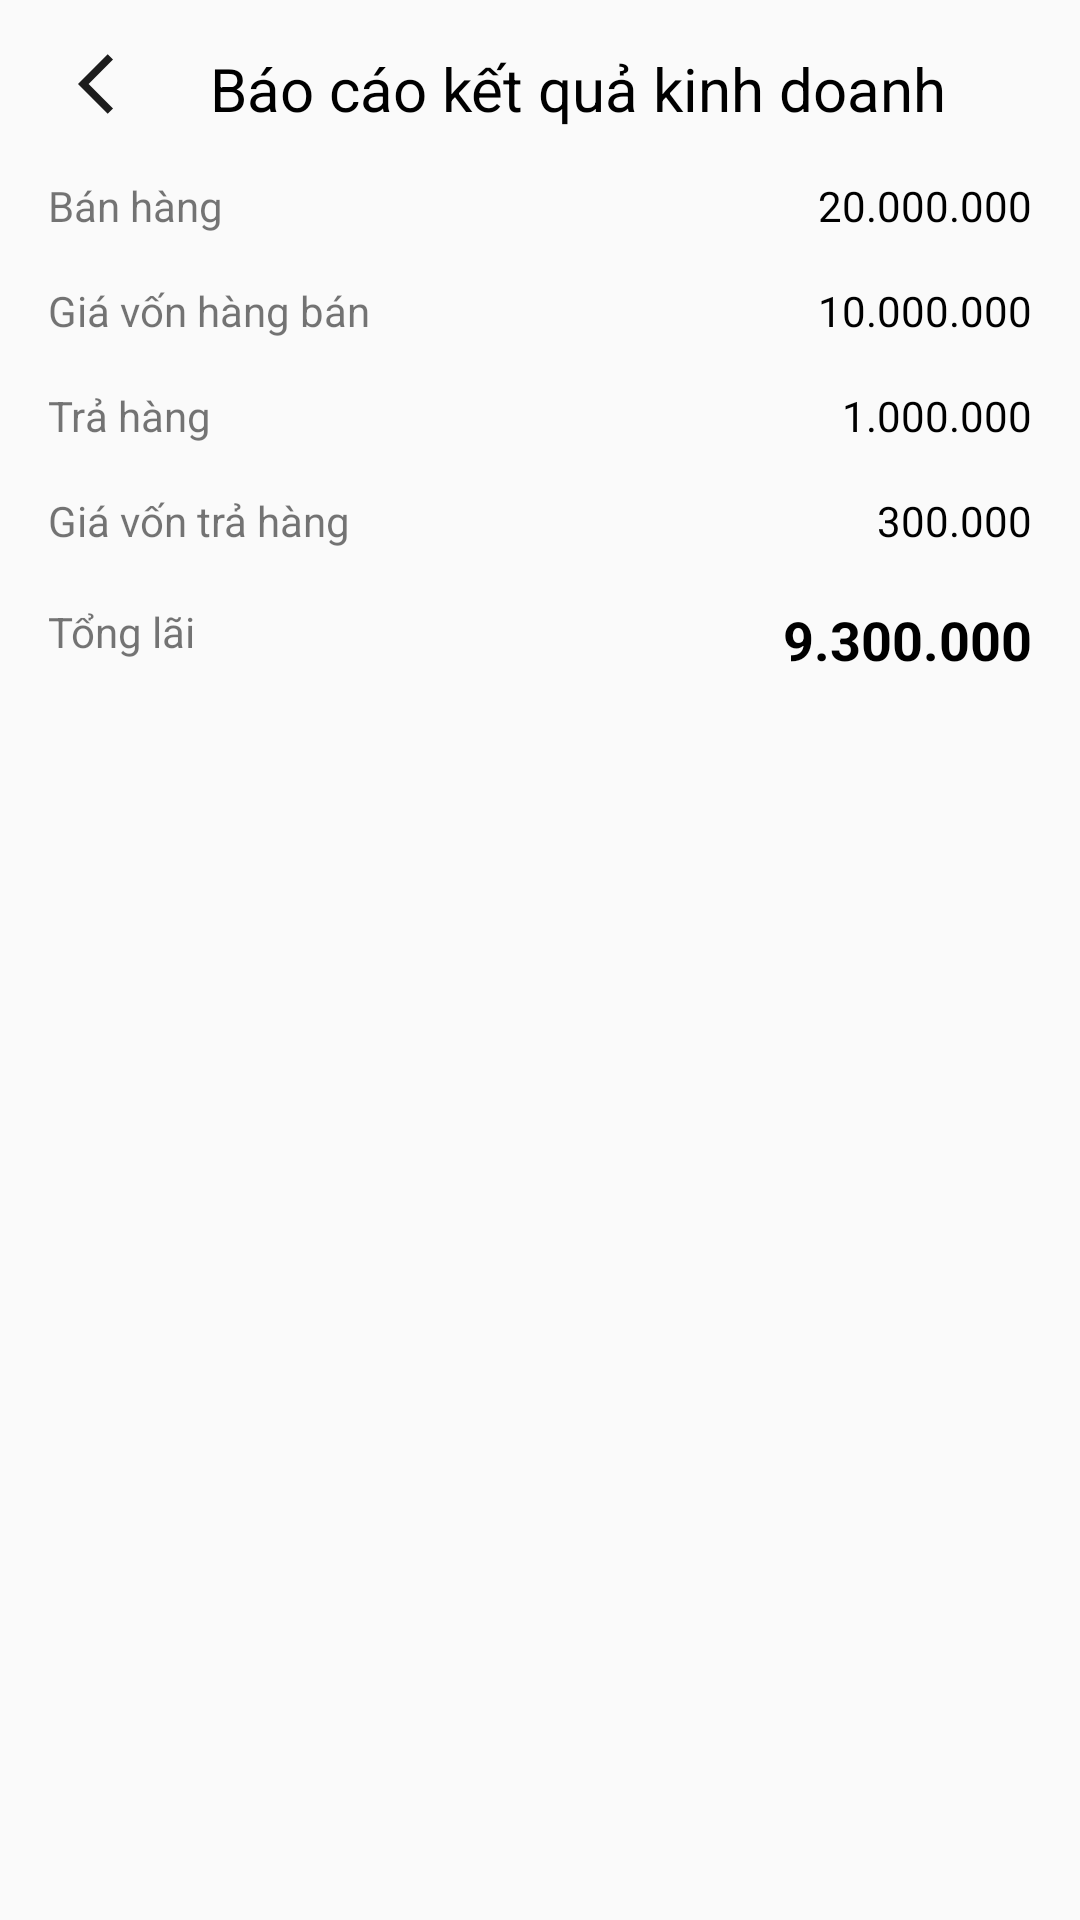

Named icons in this screenshot (1080 x 1920) and their bounding boxes, (left=x1, top=y1, right=x2, bottom=y2):
arrow back: (left=78, top=54, right=113, bottom=114)
